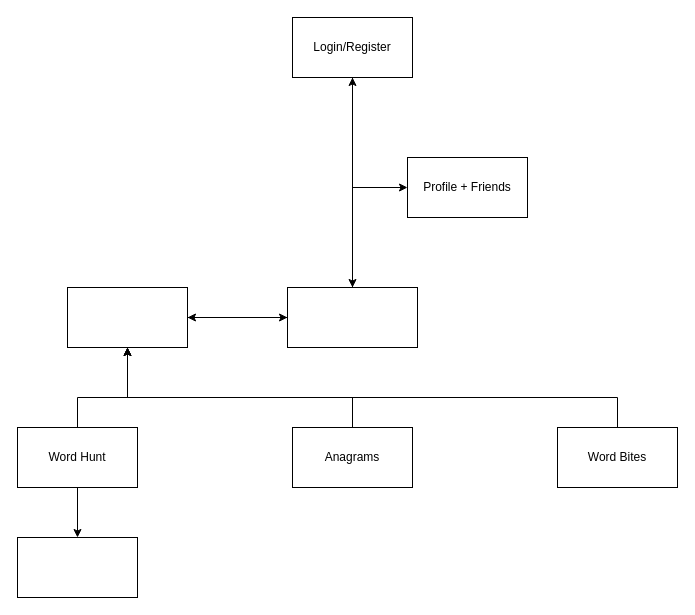
This 695x615 diagram has some shape labels left out. Here are the shapes that lost their labels. From the top down, the centre of each, then its label:
the point at 127,317: Leaderboard(s)
the point at 352,317: Database
the point at 77,567: WHSolverAPI
